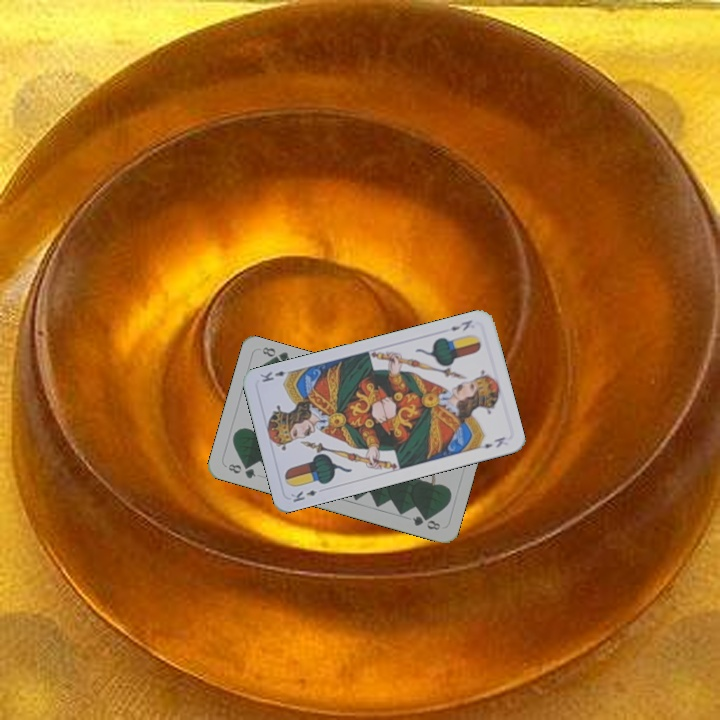EK: (287, 486, 319, 505), (447, 316, 475, 333)
G8: (224, 460, 258, 481)
